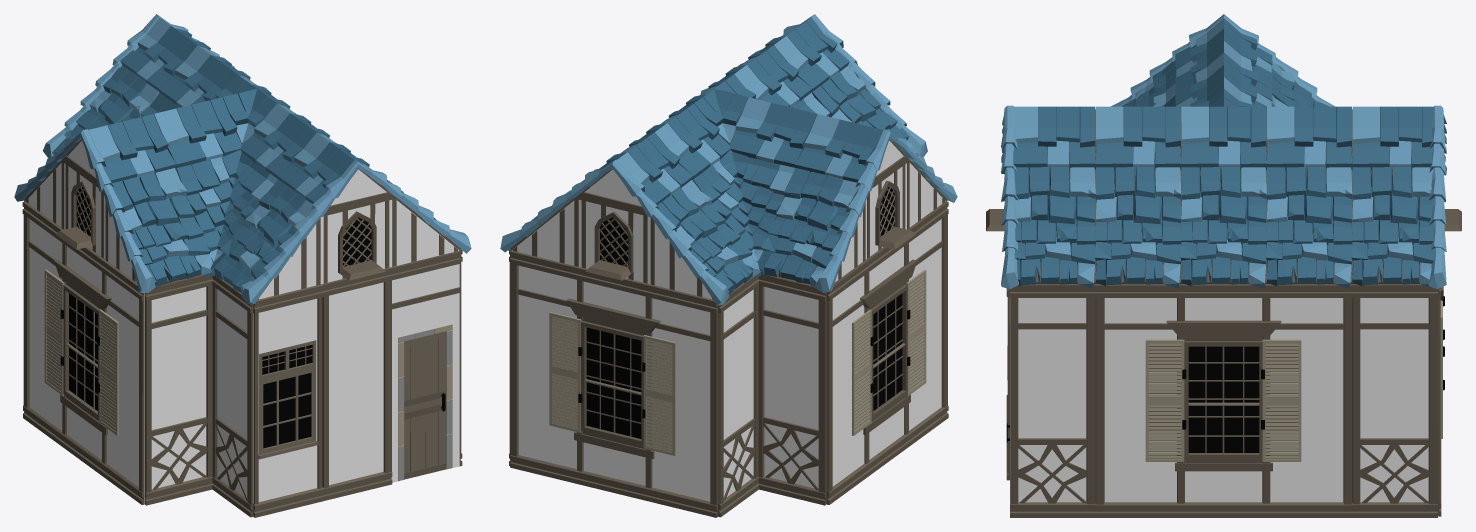
The model's file is house_05_full.glb.
The picture shows the model from 3 angles, left to right: view 1: azimuth 30°, elevation 25°; view 2: azimuth 150°, elevation 25°; view 3: azimuth 270°, elevation 25°; orthographic projection. The views are drawn at different scales.
Visible parts, largest first — view 1: WINDOW_07_3, WINDOW_04_3, WALL_03_3, WALL_04_4, DOOR_02_2, WALL_04_3, ROOF_base_6, ROOF_inner_corner_3, ROOF_base_5, ROOF_triangle_window_grid_6, ROOF_base_small_8, ROOF_base_small_7 (+19 smaller); view 2: WINDOW_07_4, WINDOW_07_3, WALL_04_5, WALL_04_6, ROOF_base_11, ROOF_inner_corner_4, ROOF_base_10, ROOF_triangle_window_grid_8, ROOF_base_small_16, ROOF_base_small_14, ROOF_base_small_15, ROOF_base_5 (+16 smaller); view 3: WINDOW_07_5, WALL_04_7, WALL_04_8, ROOF_base_8, ROOF_base_4, ROOF_base_7, ROOF_base_9, ROOF_base_3, ROOF_base_small_11, ROOF_base_small_5, ROOF_base_small_10, ROOF_base_small_4 (+13 smaller).
Boxes of the visible parts, bbox=[...] form: WINDOW_07_3: bbox=[22, 201, 144, 504]; WINDOW_04_3: bbox=[253, 284, 323, 517]; WALL_03_3: bbox=[322, 267, 392, 500]; WALL_04_4: bbox=[144, 275, 212, 505]; DOOR_02_2: bbox=[391, 250, 461, 482]; WALL_04_3: bbox=[212, 275, 253, 517]; ROOF_base_6: bbox=[112, 168, 213, 288]; ROOF_inner_corner_3: bbox=[176, 149, 278, 262]; ROOF_base_5: bbox=[210, 179, 314, 294]; ROOF_triangle_window_grid_6: bbox=[322, 200, 390, 283]; ROOF_base_small_8: bbox=[154, 97, 241, 170]; ROOF_base_small_7: bbox=[88, 114, 176, 183]; WINDOW_07_4: bbox=[510, 250, 717, 517]; WINDOW_07_3: bbox=[826, 201, 948, 504]; WALL_04_5: bbox=[758, 274, 826, 505]; WALL_04_6: bbox=[718, 276, 758, 517]; ROOF_base_11: bbox=[758, 168, 859, 289]; ROOF_inner_corner_4: bbox=[693, 149, 794, 262]; ROOF_base_10: bbox=[657, 180, 760, 294]; ROOF_triangle_window_grid_8: bbox=[580, 200, 649, 283]; ROOF_base_small_16: bbox=[729, 97, 816, 167]; ROOF_base_small_14: bbox=[794, 114, 882, 182]; ROOF_base_small_15: bbox=[654, 103, 730, 180]; ROOF_base_5: bbox=[812, 66, 917, 155]; WINDOW_07_5: bbox=[1095, 284, 1352, 517]; WALL_04_7: bbox=[1352, 284, 1437, 517]; WALL_04_8: bbox=[1010, 284, 1095, 517]; ROOF_base_8: bbox=[1266, 164, 1352, 288]; ROOF_base_4: bbox=[1095, 167, 1181, 288]; ROOF_base_7: bbox=[1180, 166, 1266, 288]; ROOF_base_9: bbox=[1351, 167, 1437, 287]; ROOF_base_3: bbox=[1010, 166, 1095, 288]; ROOF_base_small_11: bbox=[1266, 106, 1352, 170]; ROOF_base_small_5: bbox=[1095, 106, 1181, 170]; ROOF_base_small_10: bbox=[1181, 106, 1266, 170]; ROOF_base_small_4: bbox=[1013, 106, 1095, 170].
Bounding box in the file's own units: 4.39 × 4.6 × 5.56.
Materials: 1 (1 with a texture image).
